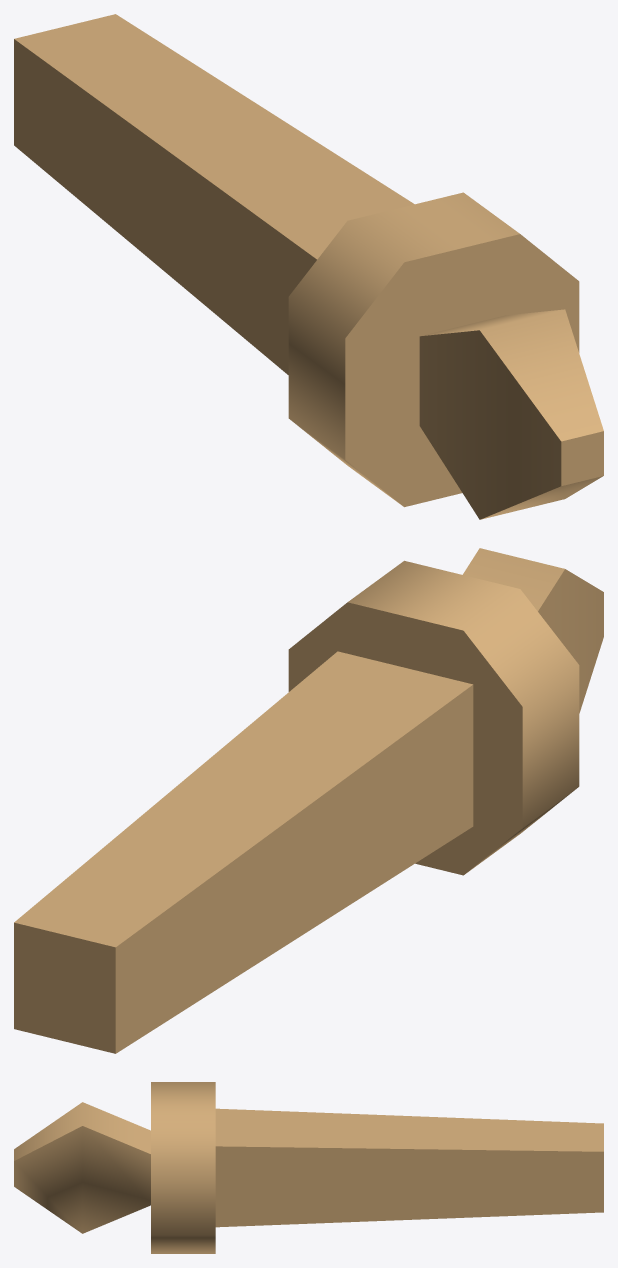
The model's file is toy-samurai-arrow.glb.
3 views of the same model, one above another, from view 1: azimuth 30°, elevation 25°; view 2: azimuth 150°, elevation 25°; view 3: azimuth 270°, elevation 25° (orthographic). The views are drawn at different scales.
Bounding box in the file's own units: 0.119 × 0.119 × 0.4559.
